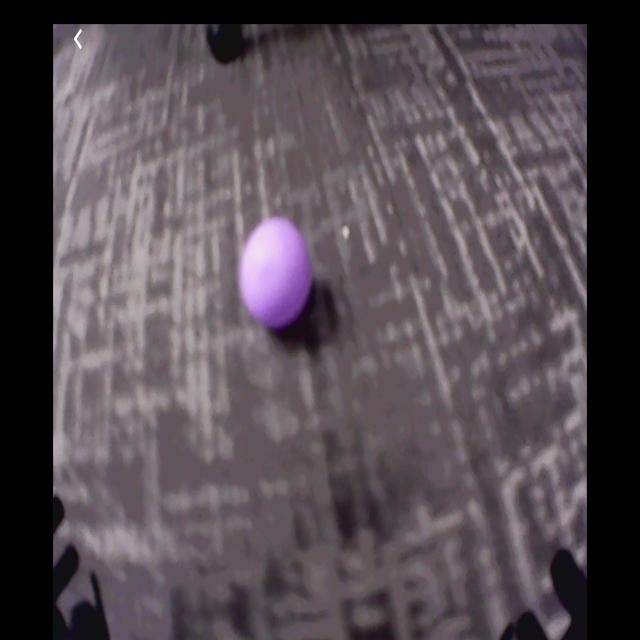ball: (241, 217, 312, 329)
